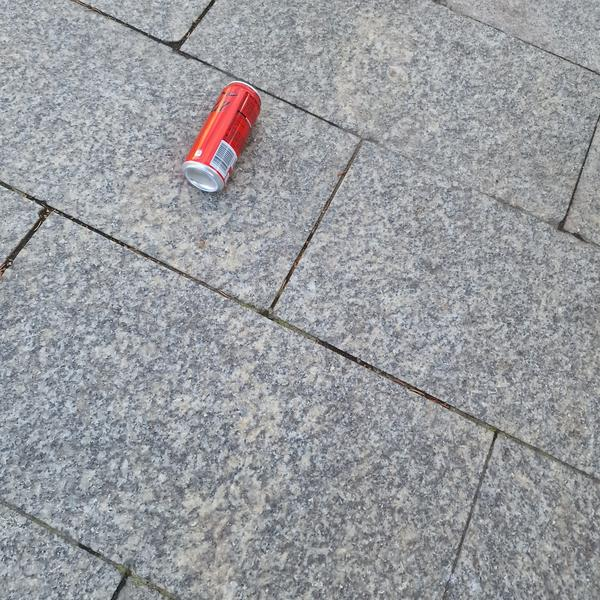can: (174, 72, 272, 200)
